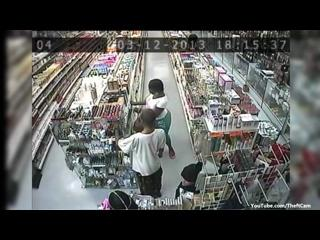Normal: (116, 108, 167, 198), (144, 79, 176, 159)
